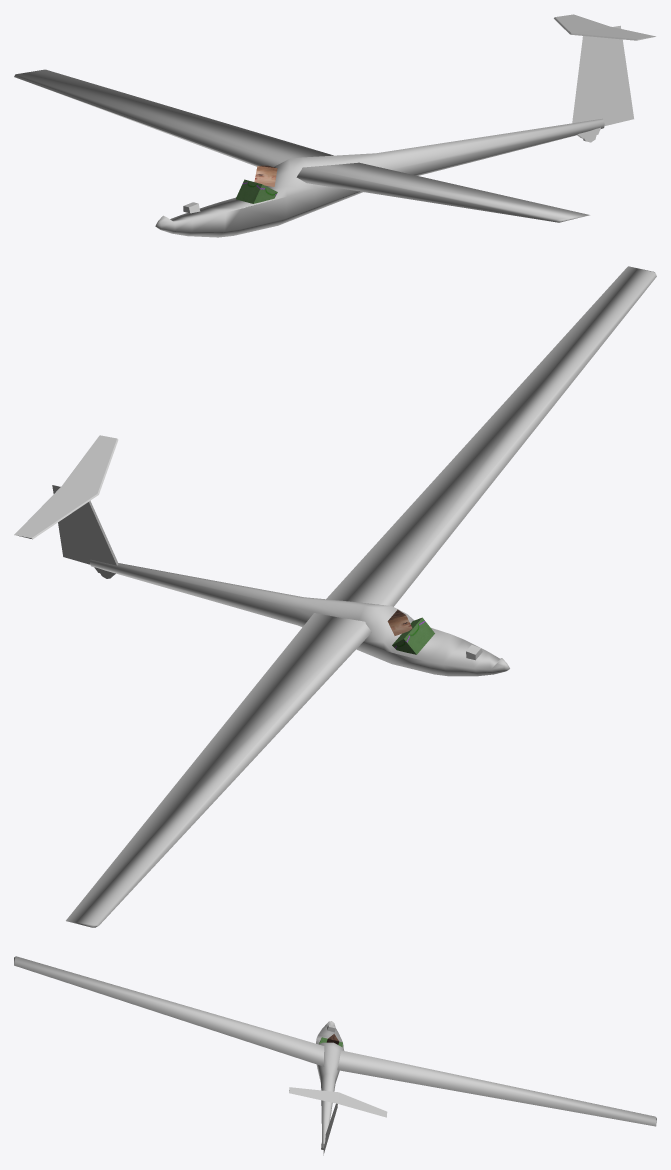
File: glider-orange-ridge-cbj_LOD01.gltf
The picture shows the model from 3 angles, top to bottom: view 1: azimuth 30°, elevation 25°; view 2: azimuth 150°, elevation 25°; view 3: azimuth 270°, elevation 25°; orthographic projection. The views are drawn at different scales.
Parts seen in each view (by area): view 1: glider00; view 2: glider00; view 3: glider00.
Part boxes in pixels (<box>): glider00: <box>14,14,655,237</box>; glider00: <box>14,266,656,927</box>; glider00: <box>14,956,656,1155</box>.
Size of what is drawn, in the model's own units: 7.01 by 3.91 by 14.55.
